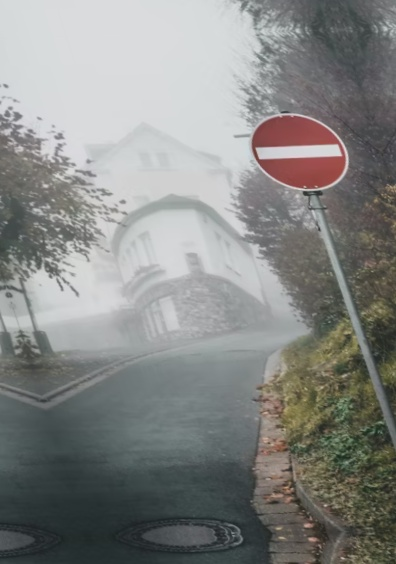No entry: (247, 106, 366, 209)
